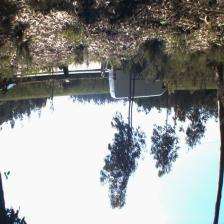trunktrack_idkeyframe: (212, 63, 223, 224)
